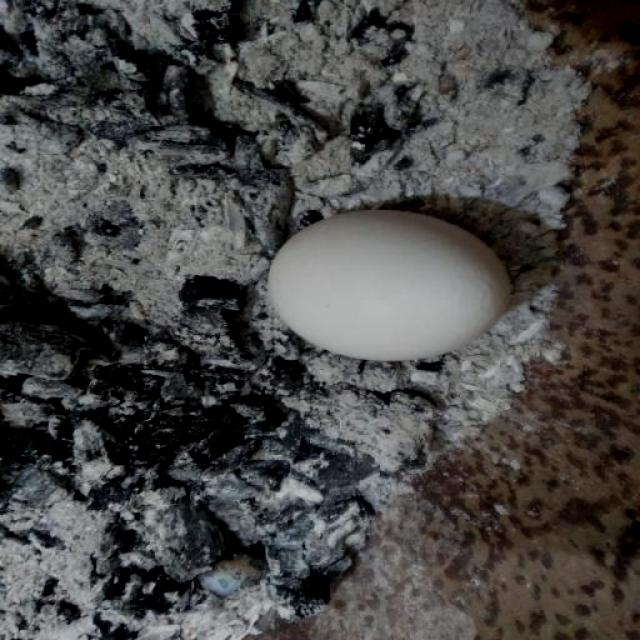telur: (266, 209, 512, 362)
